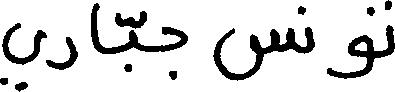X: (216, 23, 292, 85), (328, 2, 371, 83), (0, 18, 46, 91), (164, 22, 186, 84), (48, 32, 76, 74), (387, 0, 394, 60), (92, 0, 97, 55), (307, 22, 313, 57), (131, 12, 134, 75)
